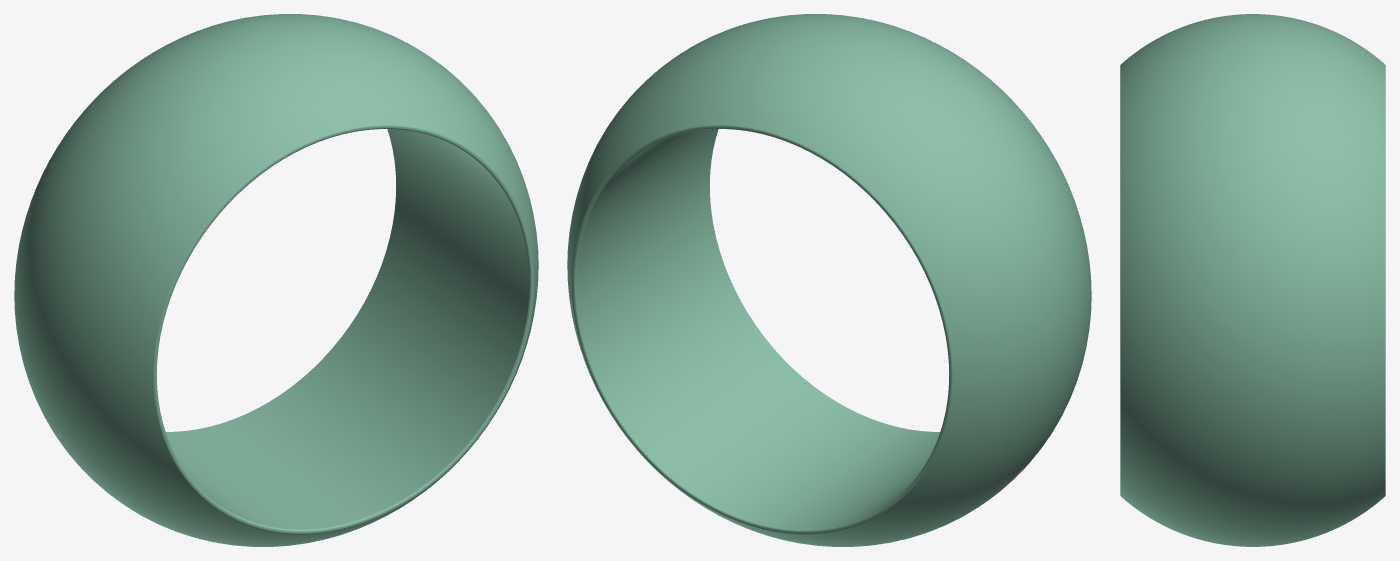
3 renders of one model, left to right at view 1: azimuth 30°, elevation 25°; view 2: azimuth 150°, elevation 25°; view 3: azimuth 270°, elevation 25°, orthographic.
Parts seen in each view (by area): view 1: 40g 12mm.3dm; view 2: 40g 12mm.3dm; view 3: 40g 12mm.3dm.
Part boxes in pixels (x1,y1,x2,y2): 40g 12mm.3dm: (14,14,538,546); 40g 12mm.3dm: (567,14,1091,546); 40g 12mm.3dm: (1120,14,1385,546).
Bounding box in the file's own units: 2.67 × 2.67 × 1.33.
